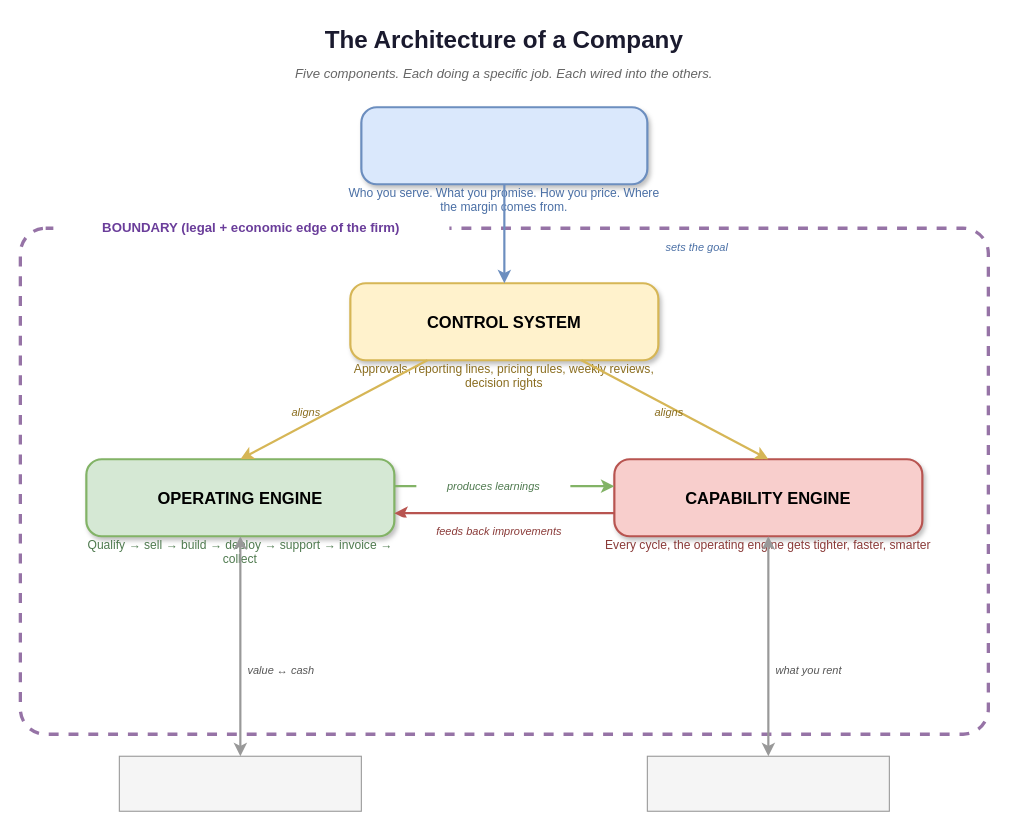
The diagram is 1009 pixels wide and 831 high, and some of its shapes have lost their labels. Here are the shapes that lost their labels. From the top down, the centre of each, then its label:
the point at 504,147: DIRECTION
the point at 239,783: Customers (value delivered → cash captured)
the point at 767,783: Market (suppliers, tools, services rented from outside)
